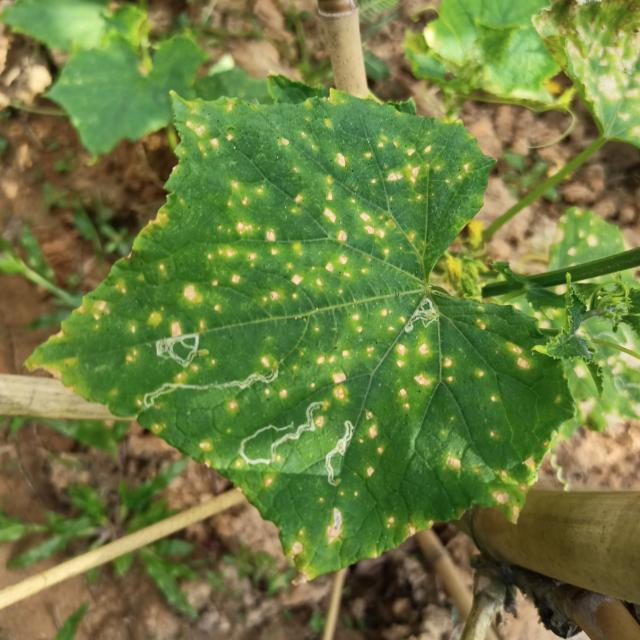disease_cucumber: (82, 117, 474, 334), (393, 339, 501, 434), (443, 445, 537, 520), (286, 492, 360, 557), (315, 341, 388, 405), (219, 384, 291, 413), (362, 409, 387, 480), (382, 512, 436, 538), (508, 341, 536, 377), (176, 359, 217, 382)
